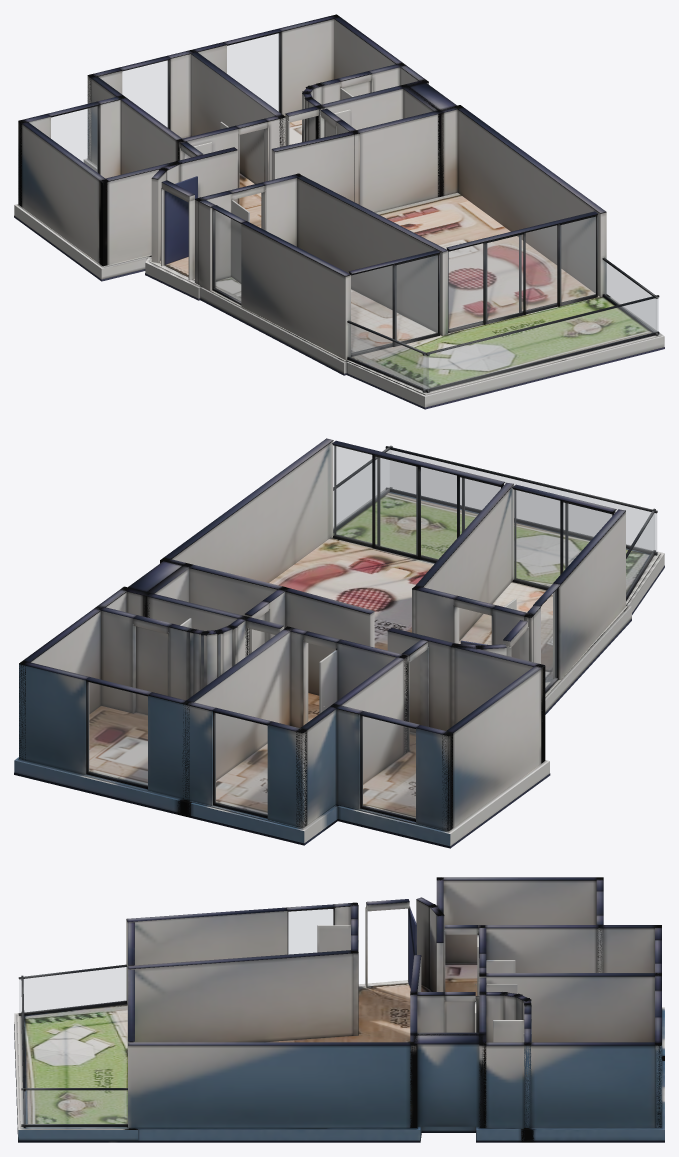
The picture shows the model from 3 angles, top to bottom: view 1: azimuth 30°, elevation 25°; view 2: azimuth 150°, elevation 25°; view 3: azimuth 270°, elevation 25°; orthographic projection. The views are drawn at different scales.
Parts seen in each view (by area): view 1: plan, glass5_m, railg1_m, glass4_m, glass1_m, railg2_m, glass0_m, glass3_m, glass2_m, railg0_m; view 2: plan, glass5_m, railg1_m, glass4_m, glass1_m, glass2_m, glass0_m, railg0_m, glass3_m, railg2_m; view 3: plan, railg0_m, railg2_m, glass3_m.
Part boxes in pixels (box(x1,y1,x2,y2)): plan: box(14, 14, 664, 409); glass5_m: box(448, 217, 595, 330); railg1_m: box(423, 298, 658, 389); glass4_m: box(351, 255, 437, 353); glass1_m: box(227, 33, 279, 111); railg2_m: box(348, 323, 428, 390); glass0_m: box(122, 60, 168, 127); glass3_m: box(214, 210, 240, 301); glass2_m: box(51, 106, 97, 172); railg0_m: box(603, 261, 657, 332); plan: box(14, 438, 664, 848); glass5_m: box(334, 446, 500, 560); railg1_m: box(386, 450, 656, 552); glass4_m: box(514, 490, 611, 587); glass1_m: box(88, 682, 147, 785); glass2_m: box(362, 716, 415, 818); glass0_m: box(215, 713, 267, 815); railg0_m: box(333, 450, 390, 528); glass3_m: box(541, 590, 556, 688); railg2_m: box(626, 513, 654, 596); plan: box(14, 877, 664, 1142); railg0_m: box(21, 1090, 127, 1124); railg2_m: box(19, 967, 126, 1013); glass3_m: box(288, 909, 332, 953).
Size of the model in its own units: 9.99 by 2.62 by 16.1.
2 materials, 1 textured.
